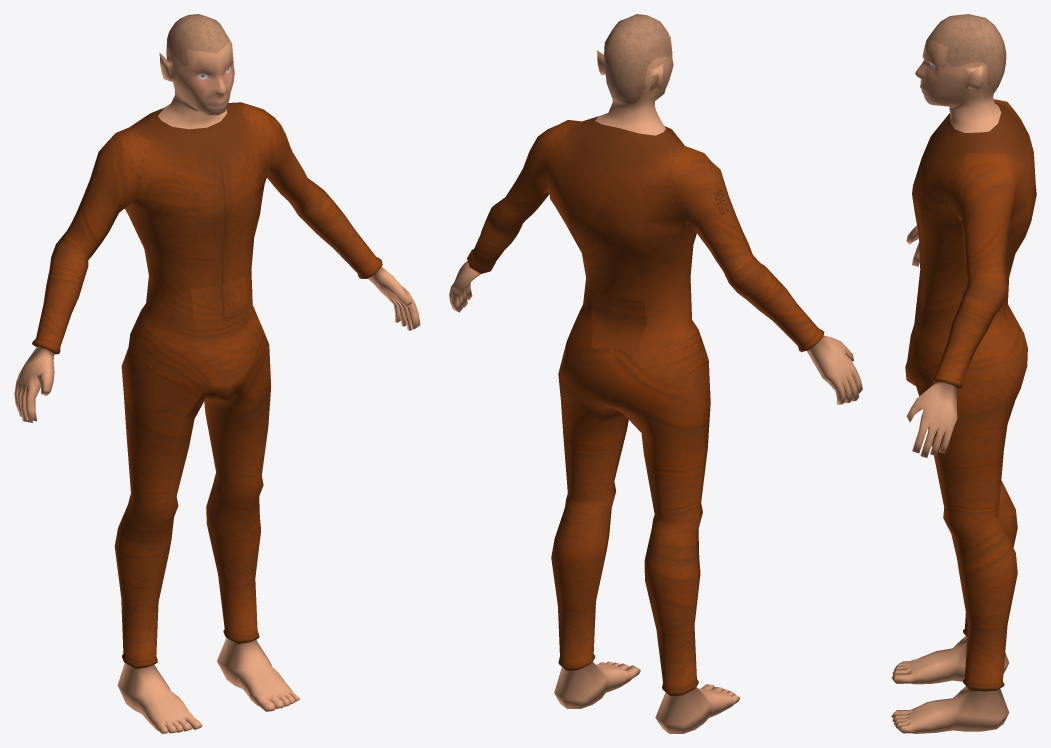
The model's file is Jagwar.fbx.
3 renders of one model, left to right at view 1: azimuth 30°, elevation 25°; view 2: azimuth 150°, elevation 25°; view 3: azimuth 270°, elevation 25°, orthographic.
Parts seen in each view (by area): view 1: Jagwar model003; view 2: Jagwar model003; view 3: Jagwar model003.
Boxes of the visible parts, x1,y1,x2,y2 form: Jagwar model003: (14,14,420,733); Jagwar model003: (449,14,862,733); Jagwar model003: (891,14,1036,733).
Size of the model in its own units: 29 by 47.95 by 9.25.
